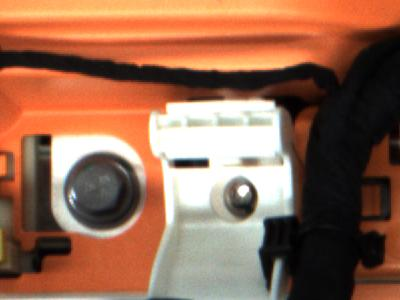nut_b: (60, 151, 147, 227)
